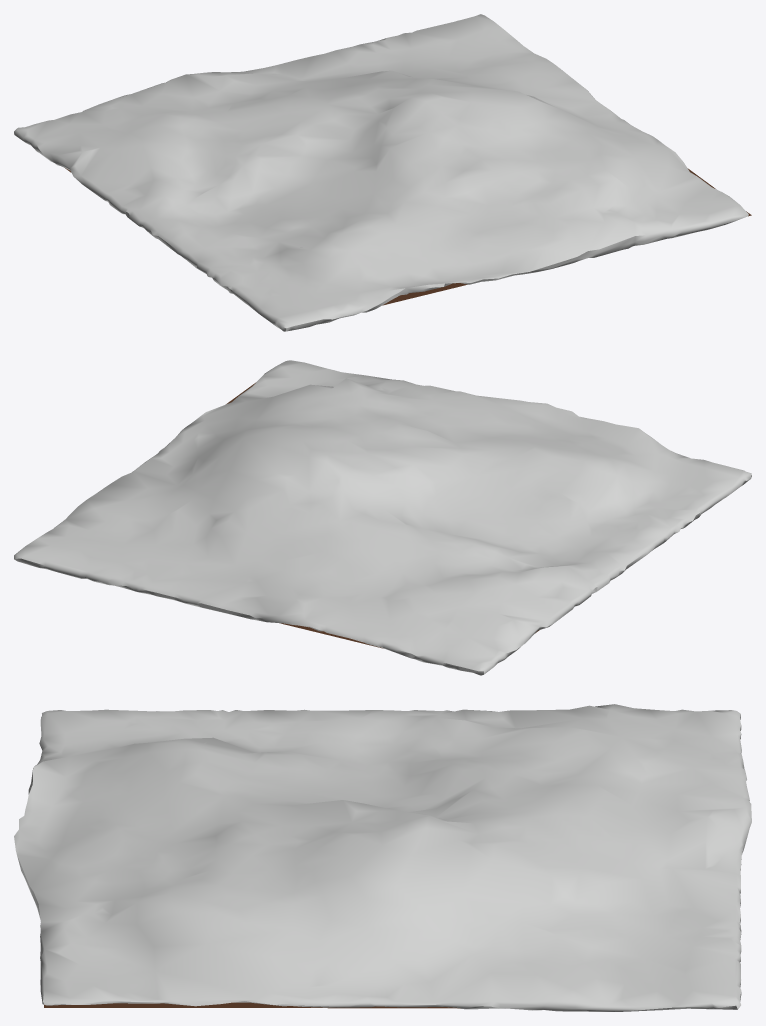
Rendered from GroundTileSnowy_4.fbx.
3 views of the same model, one above another, from view 1: azimuth 30°, elevation 25°; view 2: azimuth 150°, elevation 25°; view 3: azimuth 270°, elevation 25° (orthographic). The views are drawn at different scales.
Visible parts, largest first — view 1: GroundTileSnowy_4; view 2: GroundTileSnowy_4; view 3: GroundTileSnowy_4.
Part boxes in pixels (x1=…): GroundTileSnowy_4: x1=14, y1=14, x2=751, y2=331; GroundTileSnowy_4: x1=14, y1=360, x2=751, y2=675; GroundTileSnowy_4: x1=14, y1=704, x2=751, y2=1011.
Size of the model in its own units: 1624 by 213 by 1702.
